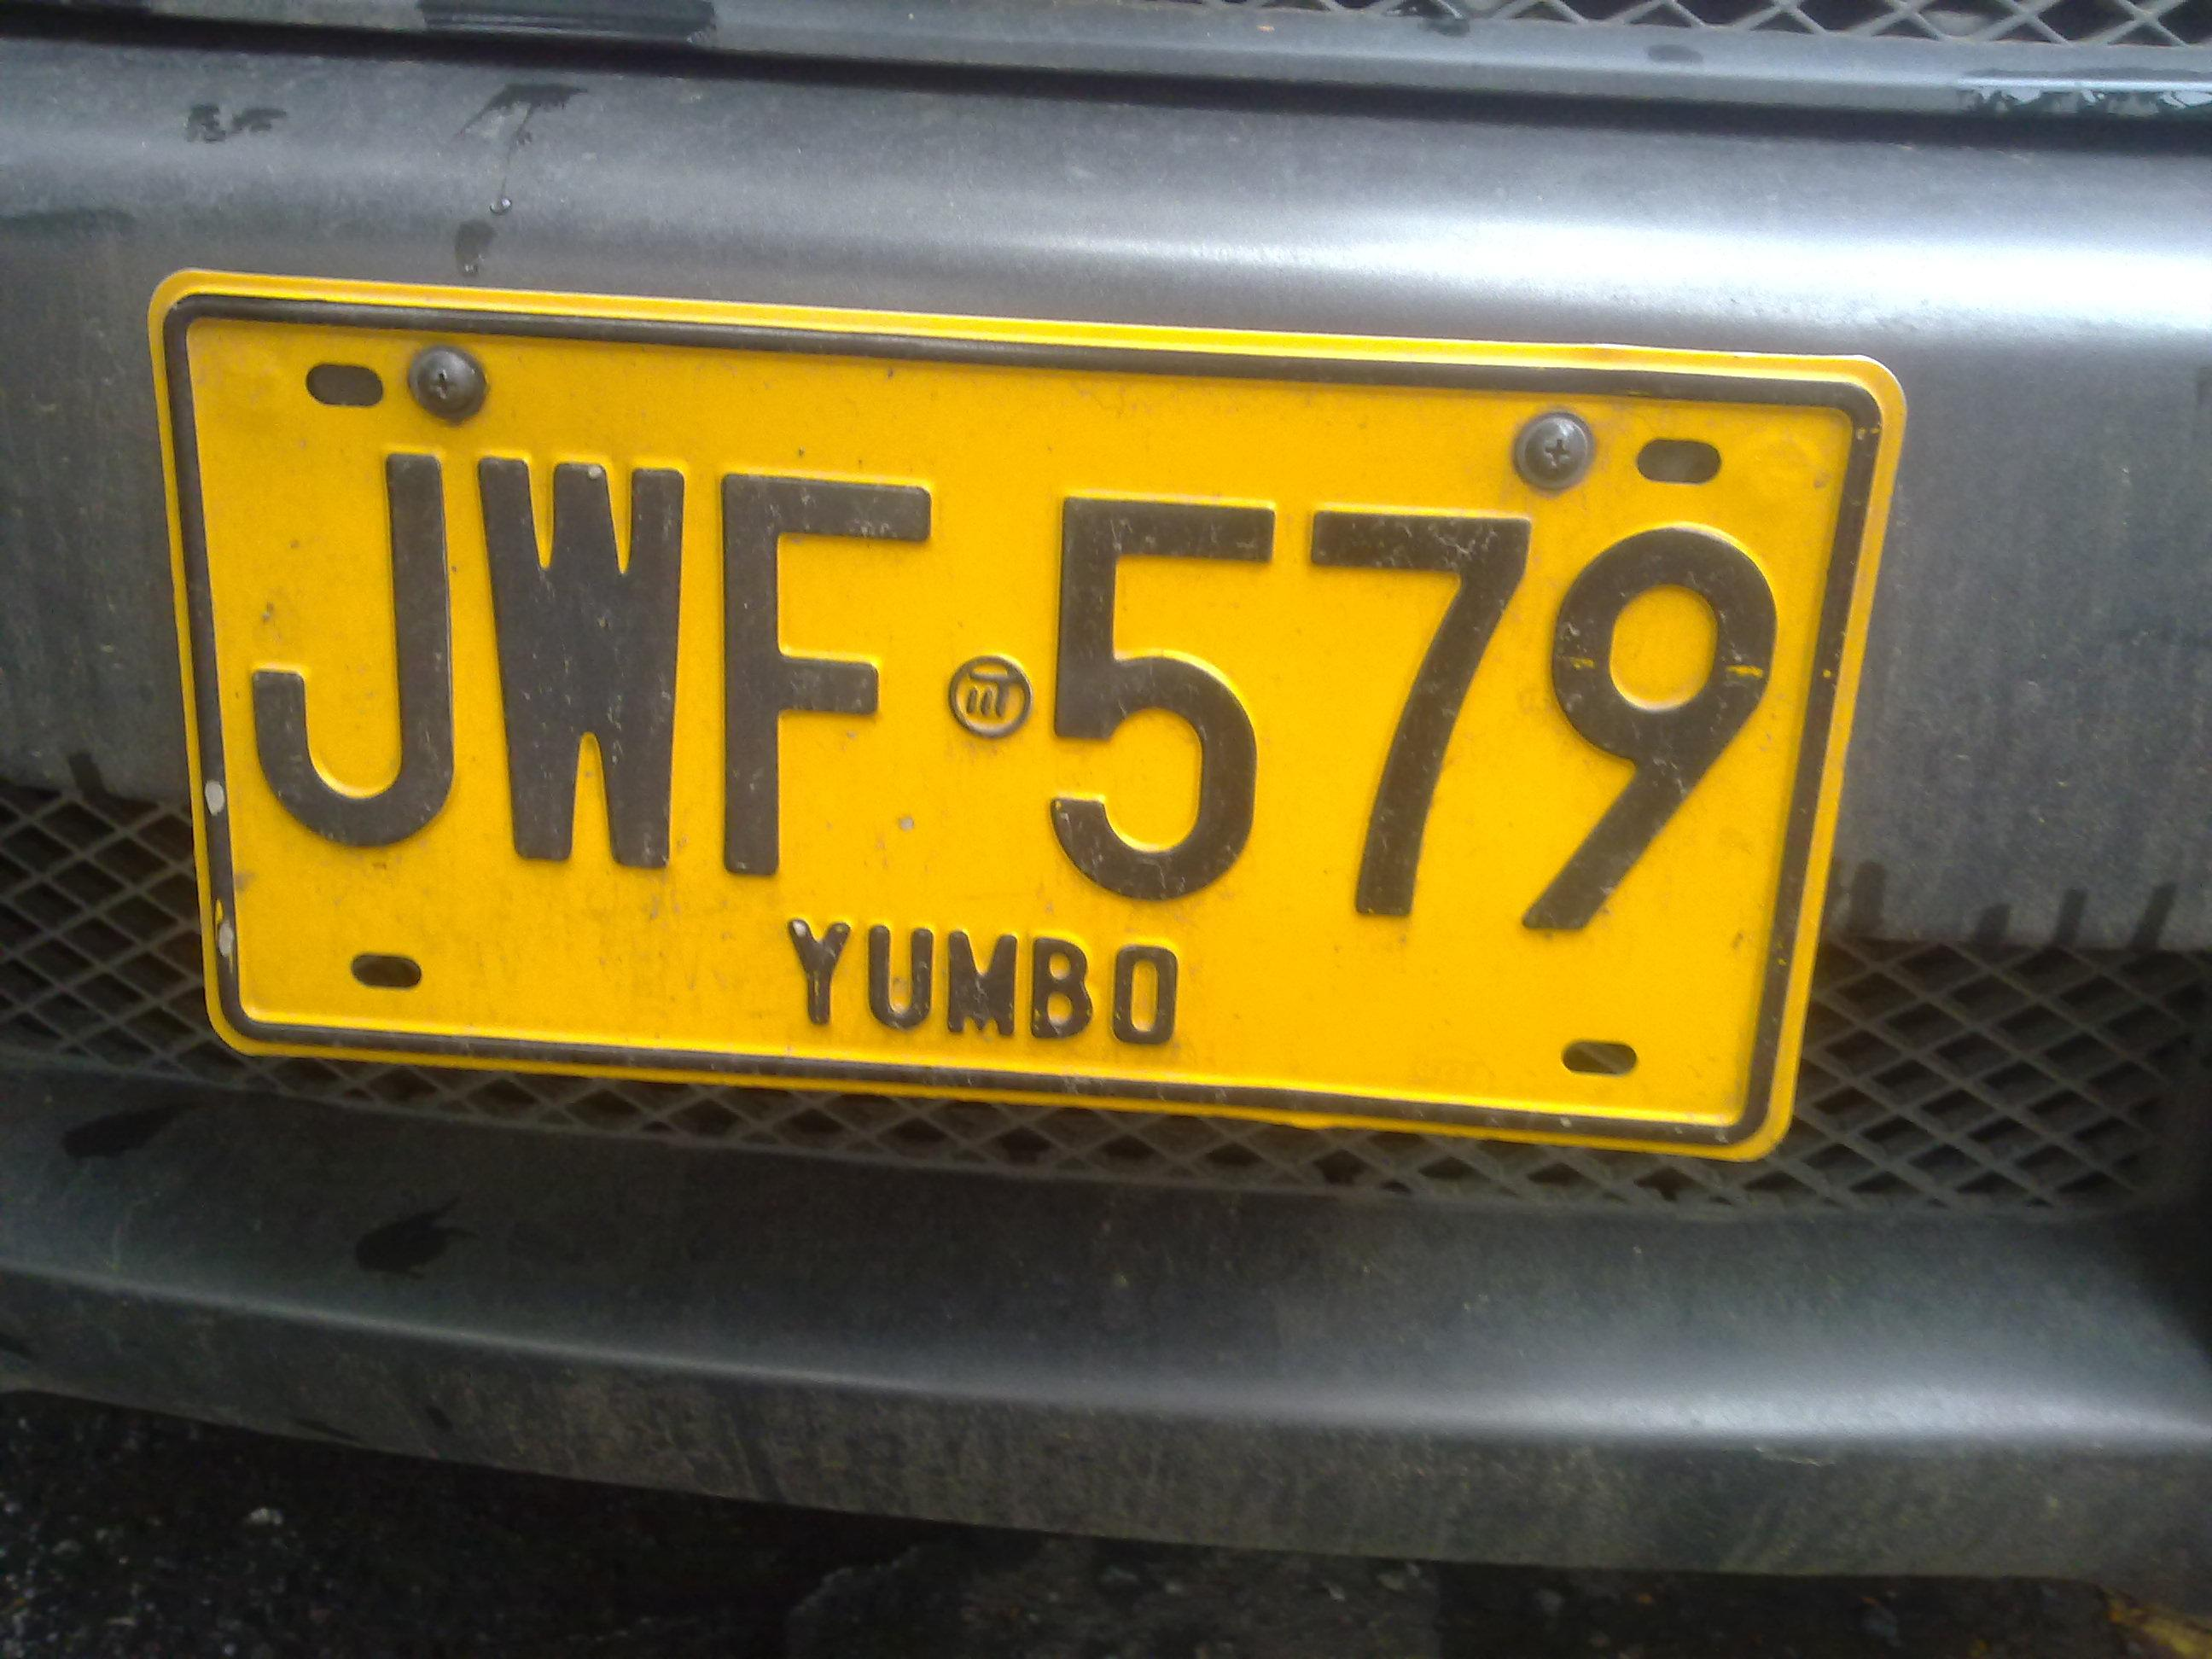placas: (138, 253, 1918, 1176)
